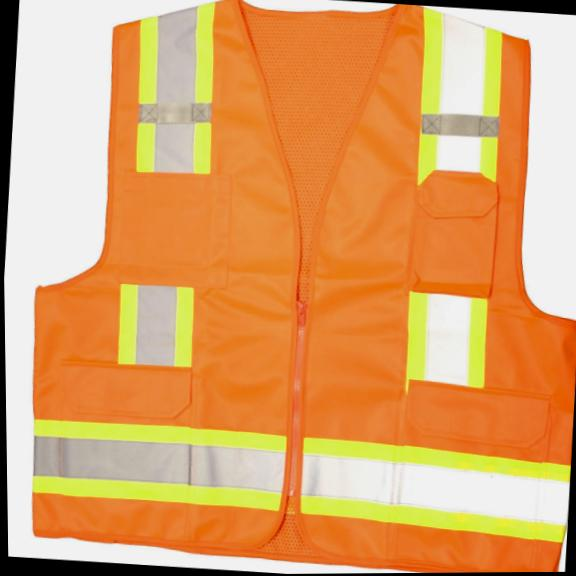safety_vest: (12, 0, 576, 576)
